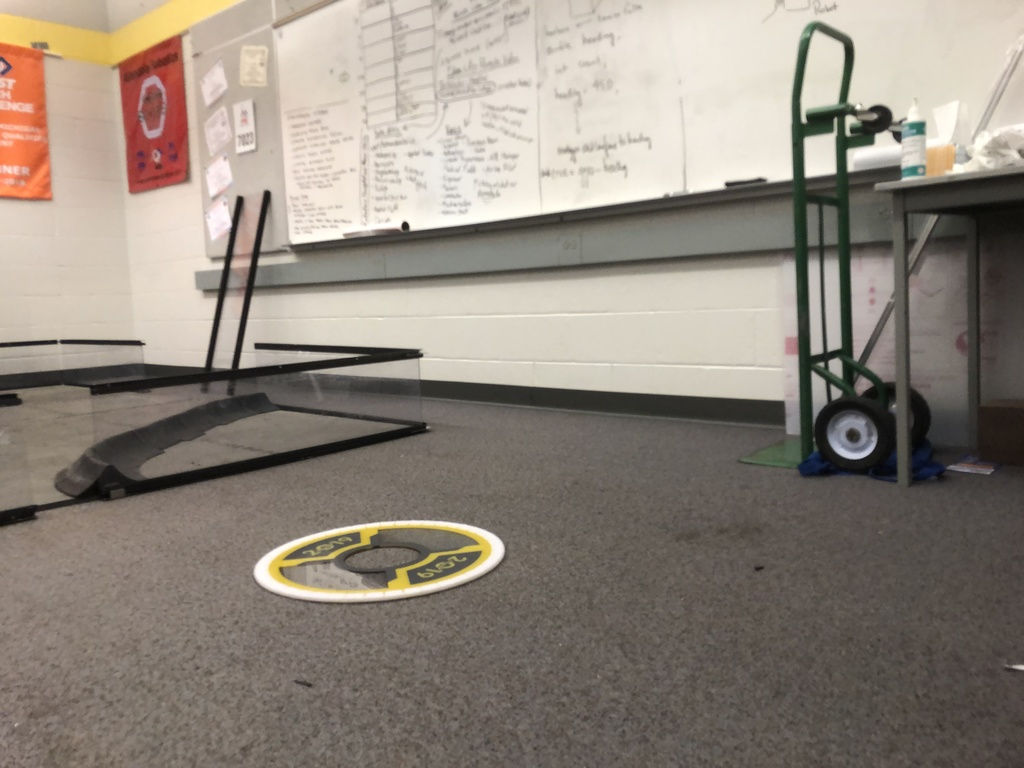hatch_panel: (248, 511, 507, 611)
